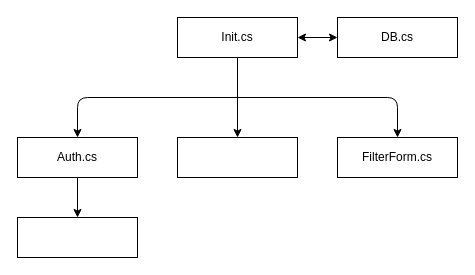
Some shapes in this 475 by 275 pixel diagram are drawn without their labels. The shapes that lost their labels are listed below. From the top down, each one's box as (x1, y1, x2, y2) in pixels, then its label:
(176, 136, 298, 178): DataForm.cs
(16, 216, 138, 258): AuthController.cs
